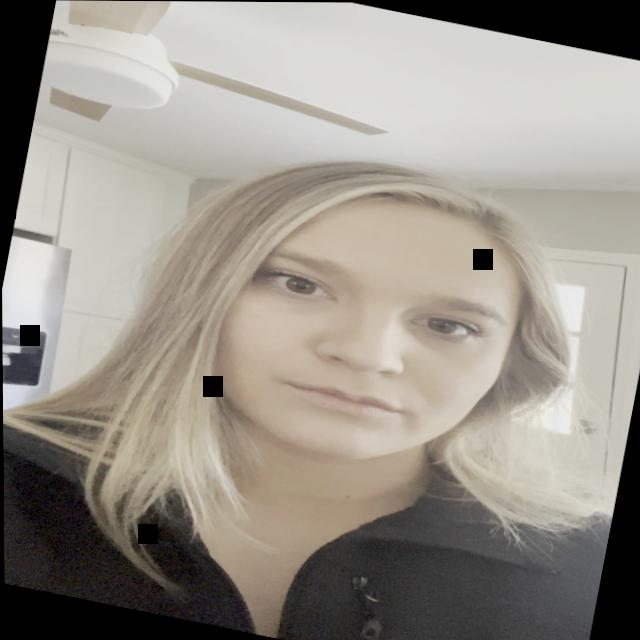NO-Mask: (132, 136, 565, 519)
